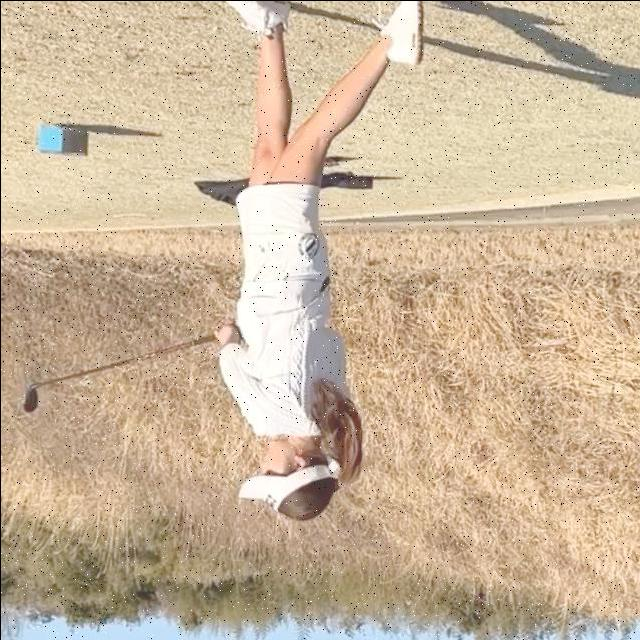golf club-handle: (19, 334, 219, 416)
golf club-head: (22, 384, 39, 414)
